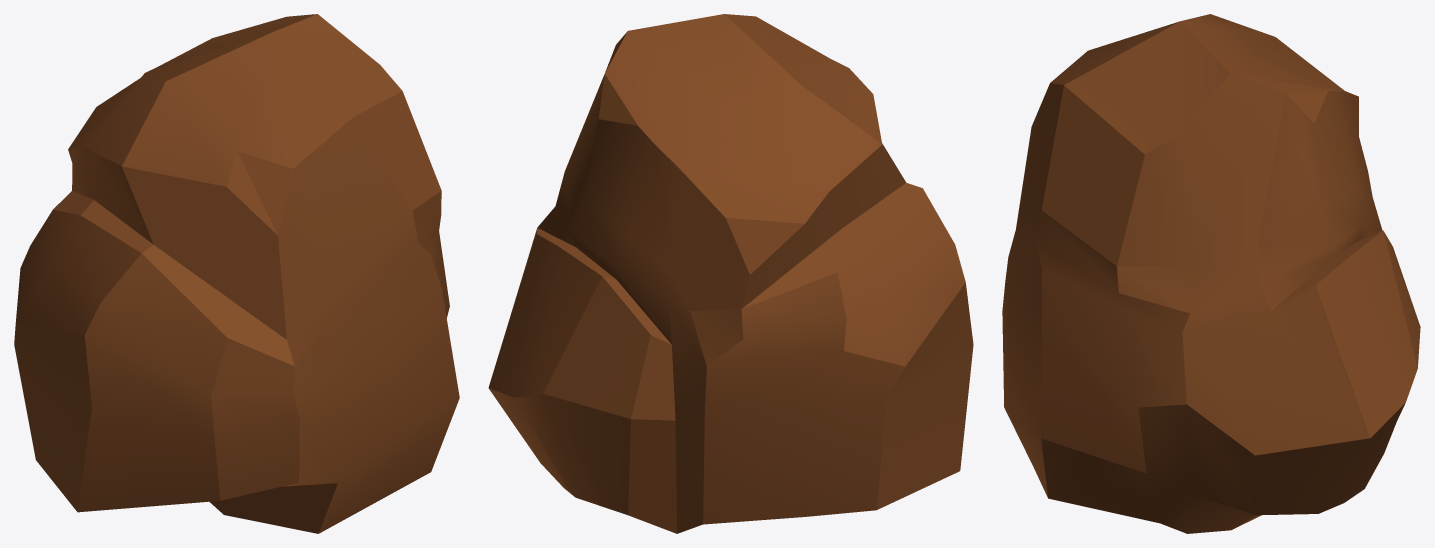
The model's file is Rock 1.glb.
3 renders of one model, left to right at view 1: azimuth 30°, elevation 25°; view 2: azimuth 150°, elevation 25°; view 3: azimuth 270°, elevation 25°, orthographic. The views are drawn at different scales.
Parts seen in each view (by area): view 1: Rock_1; view 2: Rock_1; view 3: Rock_1.
Part boxes in pixels (bbox=[...]): Rock_1: bbox=[14, 14, 459, 533]; Rock_1: bbox=[488, 14, 973, 533]; Rock_1: bbox=[1002, 14, 1420, 533].
Bounding box in the file's own units: 3.1 × 3.61 × 2.83.
1 material, 1 textured.
